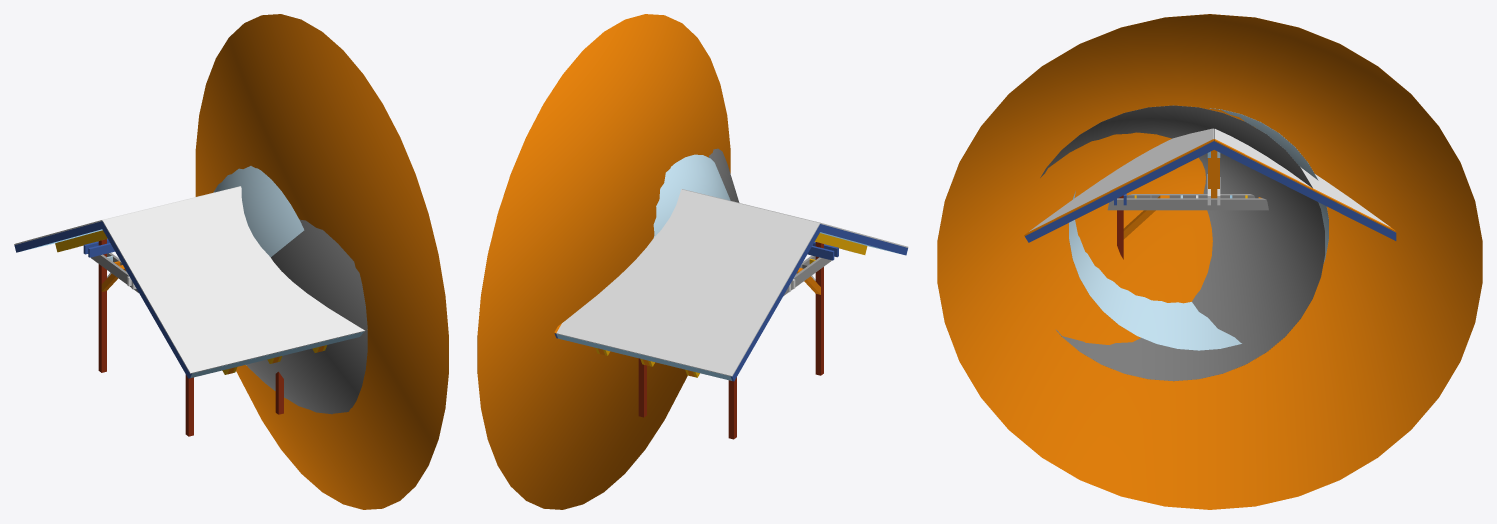
Rendered from Gazebo 12.0 Speakers-2.dae.
3 views of the same model, side by side, from view 1: azimuth 30°, elevation 25°; view 2: azimuth 150°, elevation 25°; view 3: azimuth 270°, elevation 25° (orthographic). The views are drawn at different scales.
Visible parts, largest first — view 1: 681bb8697999ff26d088384b (×42); view 2: 681bb8697999ff26d088384b (×45); view 3: 681bb8697999ff26d088384b (×6).
Part boxes in pixels (x1=…): 681bb8697999ff26d088384b (×42): x1=14, y1=14, x2=448, y2=509; 681bb8697999ff26d088384b (×45): x1=477, y1=14, x2=907, y2=509; 681bb8697999ff26d088384b (×6): x1=937, y1=14, x2=1482, y2=509.
Size of the model in its own units: 7.63 by 15.35 by 15.4.
